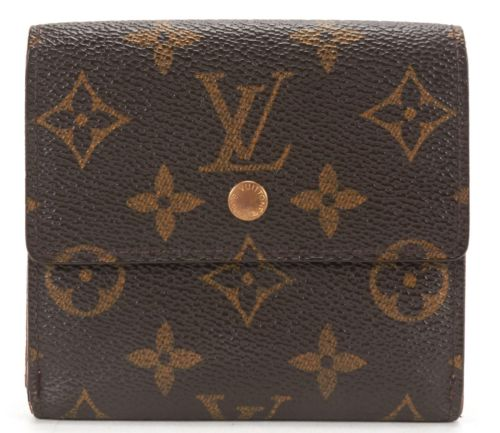LOUIS-VUITTON: (190, 66, 293, 178)
